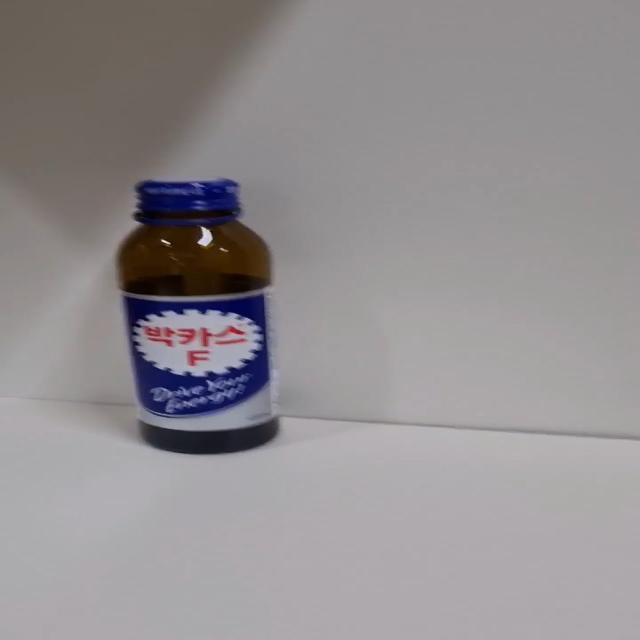Glass: (115, 180, 280, 456)
